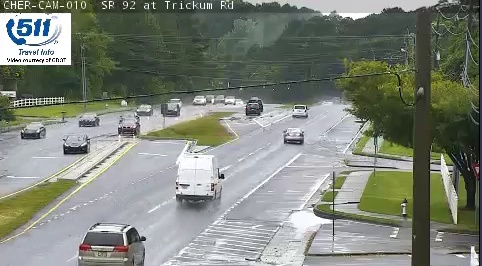car: (79, 224, 144, 265), (284, 128, 304, 142), (293, 104, 306, 116)
van: (176, 154, 222, 200)
